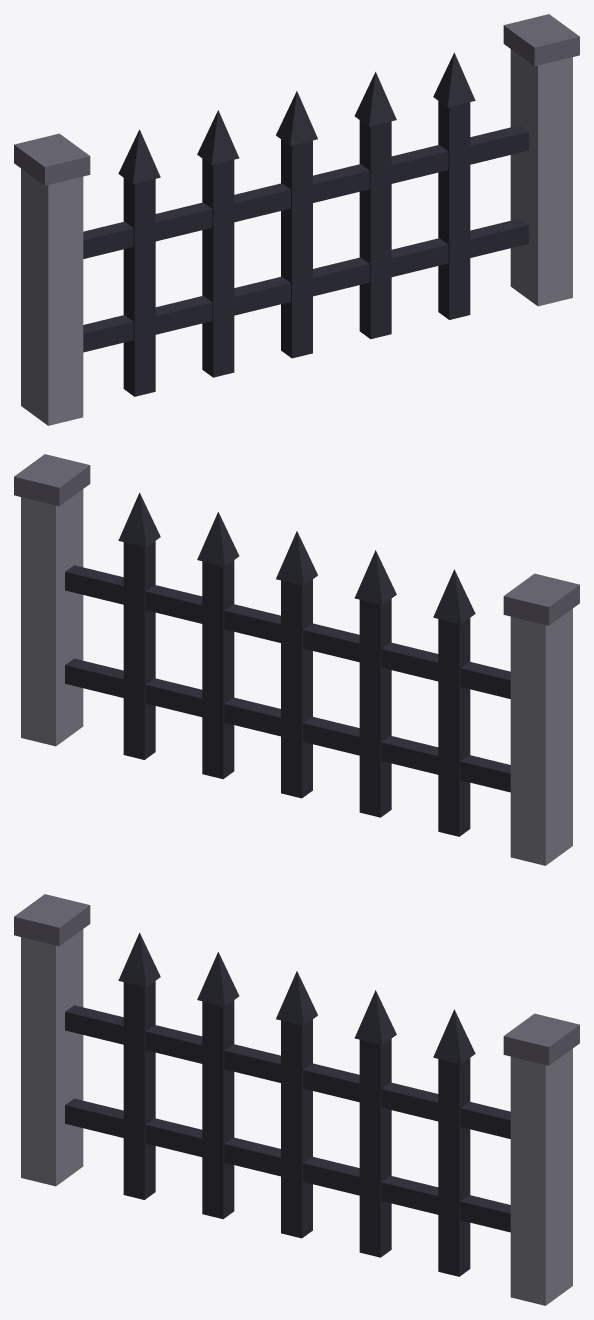
Rendered from env_r4_iron_fence.glb.
The picture shows the model from 3 angles, top to bottom: view 1: azimuth 30°, elevation 25°; view 2: azimuth 150°, elevation 25°; view 3: azimuth 330°, elevation 25°; orthographic projection.
Visible parts, largest first — view 1: env_r4_iron_fence; view 2: env_r4_iron_fence; view 3: env_r4_iron_fence.
Part boxes in pixels (box(x1,y1,x2,y2)): env_r4_iron_fence: box(14, 14, 579, 425); env_r4_iron_fence: box(14, 454, 579, 865); env_r4_iron_fence: box(14, 894, 579, 1305).
Bounding box in the file's own units: 3 × 1.4 × 0.3.
Materials: 1 (1 with a texture image).
